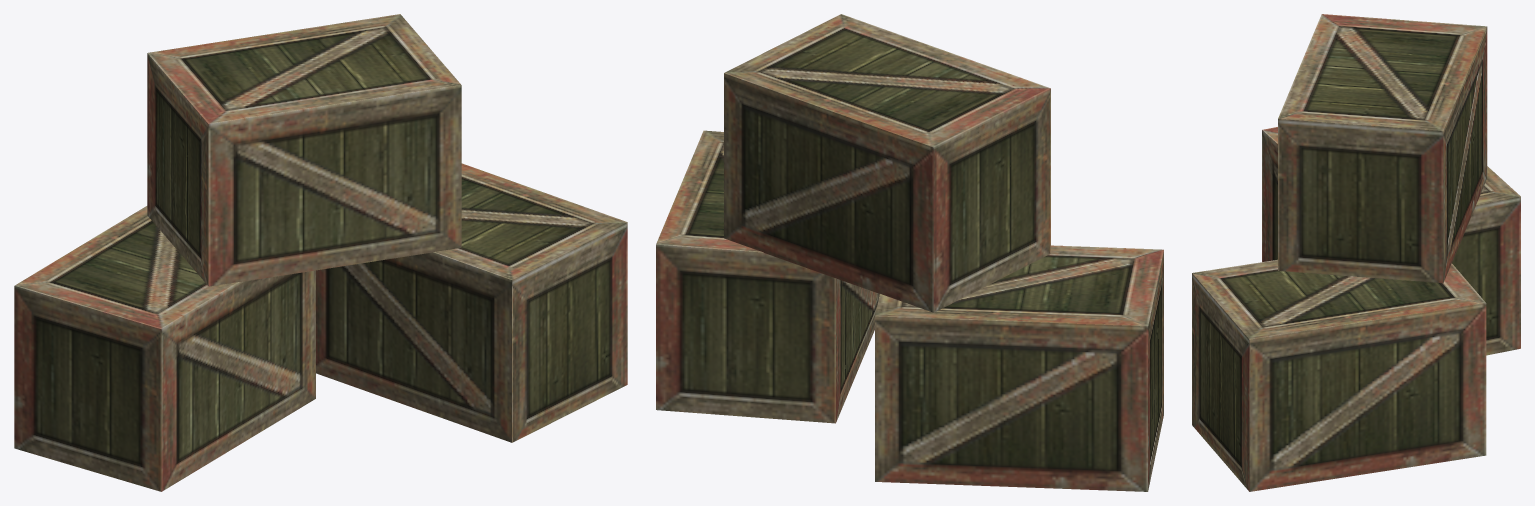
File: WoodenBox01_GodWar_002.FBX
3 renders of one model, left to right at view 1: azimuth 30°, elevation 25°; view 2: azimuth 150°, elevation 25°; view 3: azimuth 270°, elevation 25°, orthographic. The views are drawn at different scales.
Parts seen in each view (by area): view 1: WoodenBox01_GodWar_002w; view 2: WoodenBox01_GodWar_002w; view 3: WoodenBox01_GodWar_002w.
Part boxes in pixels (left/top/right/bottom): WoodenBox01_GodWar_002w: left=14, top=14, right=627, bottom=491; WoodenBox01_GodWar_002w: left=656, top=14, right=1163, bottom=491; WoodenBox01_GodWar_002w: left=1192, top=14, right=1520, bottom=491.
Bounding box in the file's own units: 106 × 62.93 × 61.65.
Materials: 1 (1 with a texture image).
